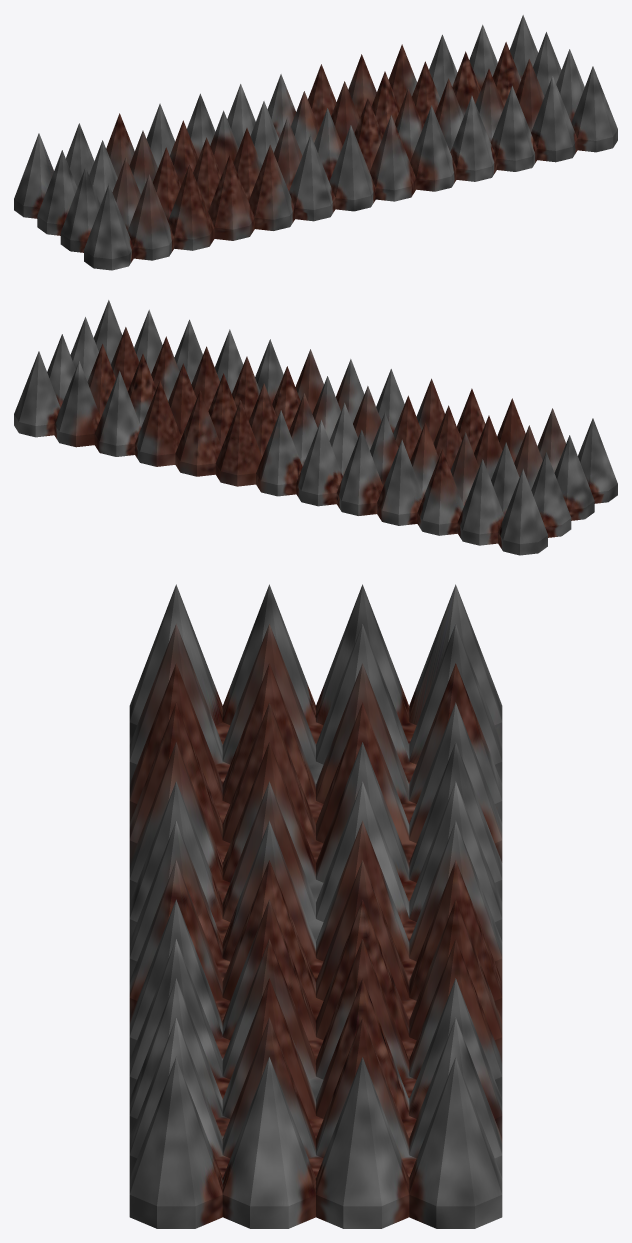
Rendered from Fall_Spikes.fbx.
3 views of the same model, one above another, from view 1: azimuth 30°, elevation 25°; view 2: azimuth 150°, elevation 25°; view 3: azimuth 270°, elevation 25° (orthographic). The views are drawn at different scales.
Visible parts, largest first — view 1: Fall_Spikes; view 2: Fall_Spikes; view 3: Fall_Spikes.
Boxes of the visible parts, <box> form: Fall_Spikes: <box>14,15,617,270</box>; Fall_Spikes: <box>14,300,617,555</box>; Fall_Spikes: <box>129,584,502,1228</box>.
Size of the model in its own units: 7.61 by 1.06 by 2.34.
